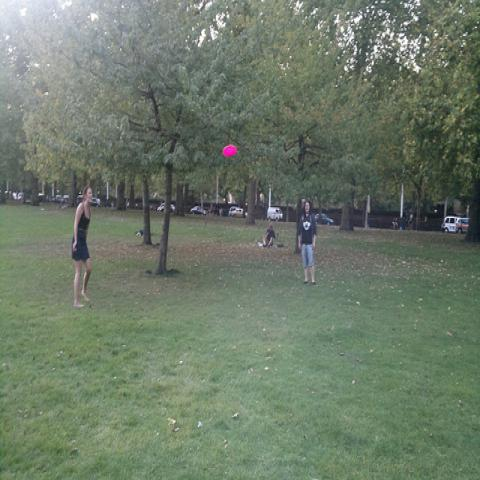car: (441, 217, 458, 232), (315, 214, 335, 225), (456, 218, 469, 234), (231, 208, 248, 218), (190, 206, 206, 216), (90, 197, 102, 207), (52, 195, 64, 205), (61, 195, 69, 209), (104, 199, 116, 208), (157, 202, 165, 212), (229, 206, 236, 217), (171, 203, 175, 212)
truck: (442, 216, 460, 233), (267, 207, 283, 222)
